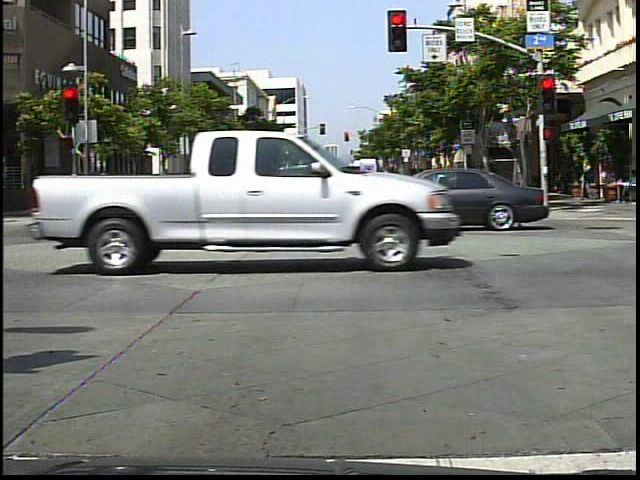person: (381, 163, 413, 234), (428, 160, 460, 224), (167, 166, 200, 225), (580, 157, 600, 205)
